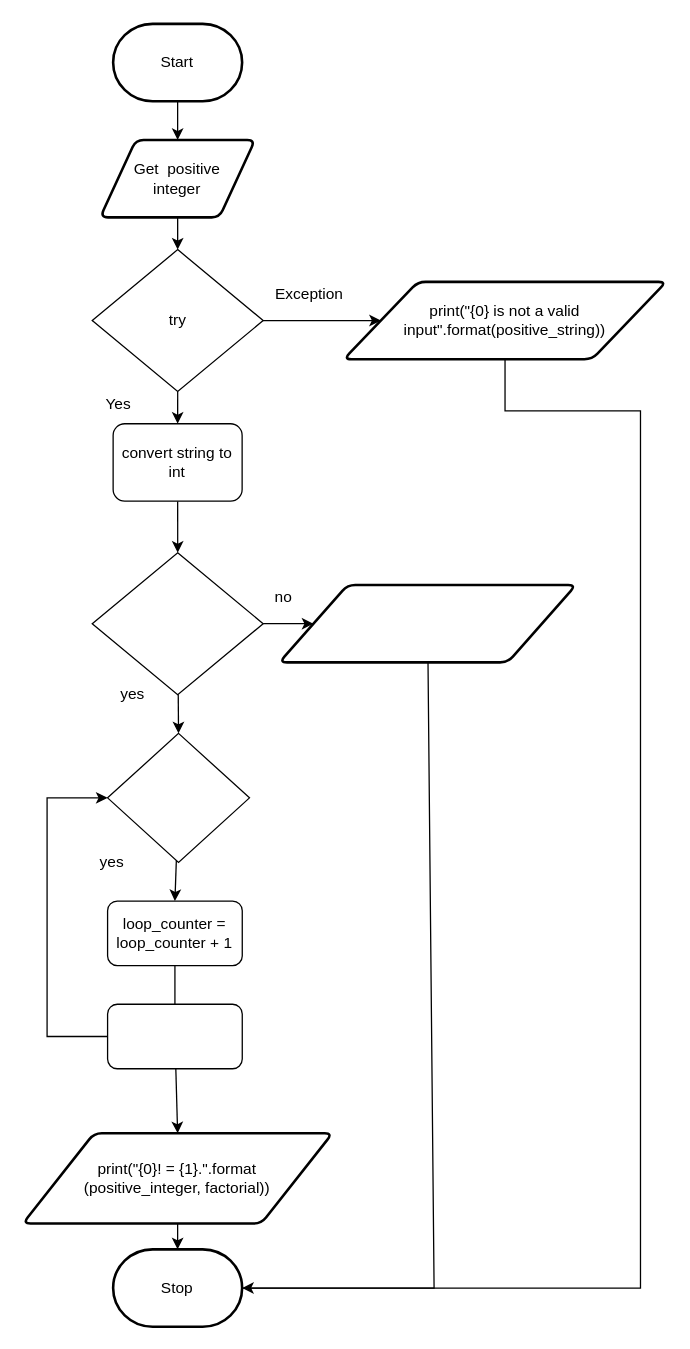
The diagram is 690 pixels wide and 1349 high, and some of its shapes have lost their labels. Here are the shapes that lost their labels. From the top down, the box of each, then its label:
(91, 551, 263, 695): if positive_integer >= 0:
(277, 583, 577, 663): print("You did not enter a positive integer")
(106, 732, 249, 862): while loop_counter < positive_integer:
(106, 1003, 242, 1069): factorial = factorial * loop_counter
